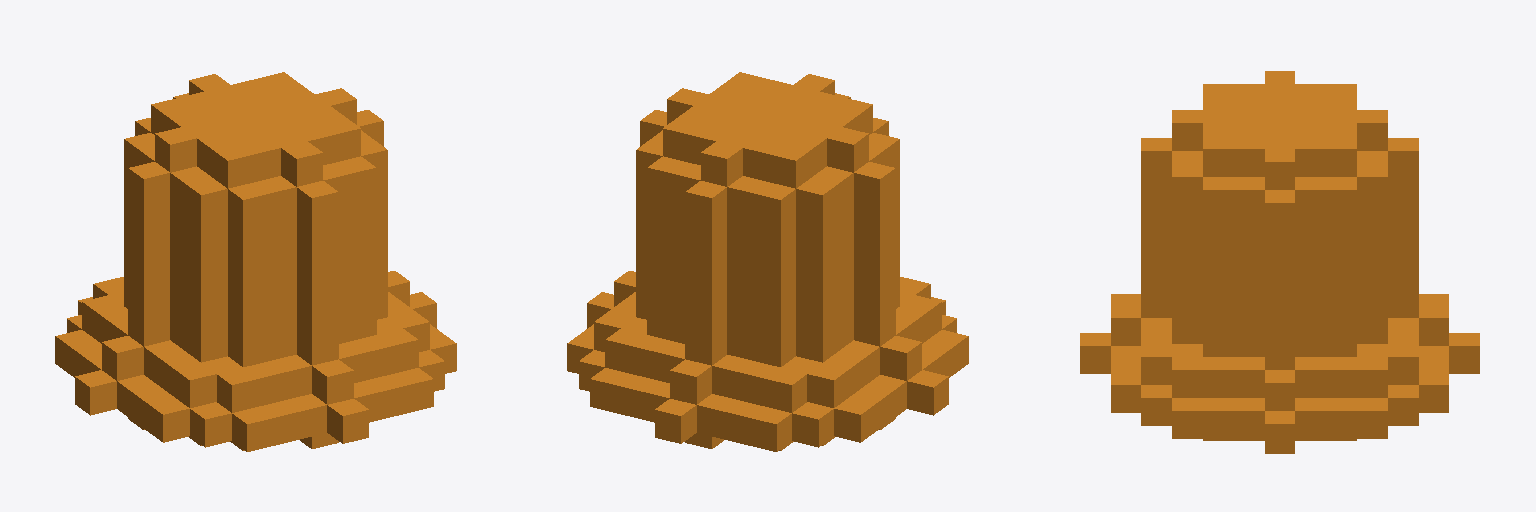
The picture shows the model from 3 angles: view 1: azimuth 30°, elevation 25°; view 2: azimuth 150°, elevation 25°; view 3: azimuth 270°, elevation 25°; orthographic projection.
Bounding box in the file's own units: 13 × 10 × 13.
1 materials, 1 textured.